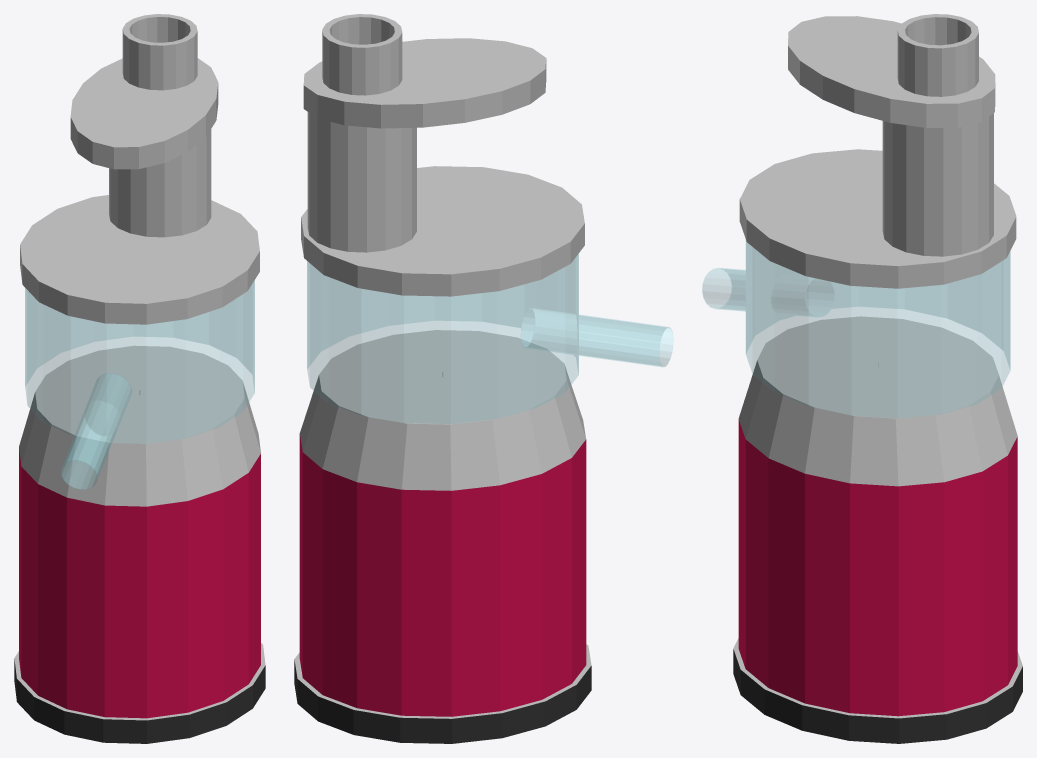
File: 1cfffb68-9b14-4f0e-8d66-11e55ca21df5.glb
The picture shows the model from 3 angles, left to right: view 1: azimuth 30°, elevation 25°; view 2: azimuth 150°, elevation 25°; view 3: azimuth 270°, elevation 25°; orthographic projection. The views are drawn at different scales.
Visible parts, largest first — view 1: Cylinder010, Object002, Cylinder006, Cylinder008, Cylinder007, Cylinder009; view 2: Cylinder010, Object002, Cylinder006, Cylinder008, Cylinder007, Cylinder009; view 3: Cylinder010, Object002, Cylinder008, Cylinder006, Cylinder007, Cylinder009.
Part boxes in pixels (box(x1,y1,x2,y2)): Cylinder010: box(14, 195, 265, 743); Object002: box(25, 280, 254, 443); Cylinder006: box(70, 58, 218, 169); Cylinder008: box(109, 129, 211, 237); Cylinder007: box(122, 14, 197, 90); Cylinder009: box(61, 374, 131, 489); Cylinder010: box(294, 166, 591, 743); Object002: box(307, 254, 578, 423); Cylinder006: box(303, 38, 546, 128); Cylinder008: box(307, 112, 416, 252); Cylinder007: box(322, 14, 402, 95); Cylinder009: box(521, 308, 673, 366); Cylinder010: box(733, 149, 1022, 743); Object002: box(746, 241, 1010, 417); Cylinder008: box(882, 113, 993, 256); Cylinder006: box(788, 16, 995, 127); Cylinder007: box(897, 14, 978, 96); Cylinder009: box(702, 268, 834, 316).
Bounding box in the file's own units: 1103672 × 2503849 × 1076014.
